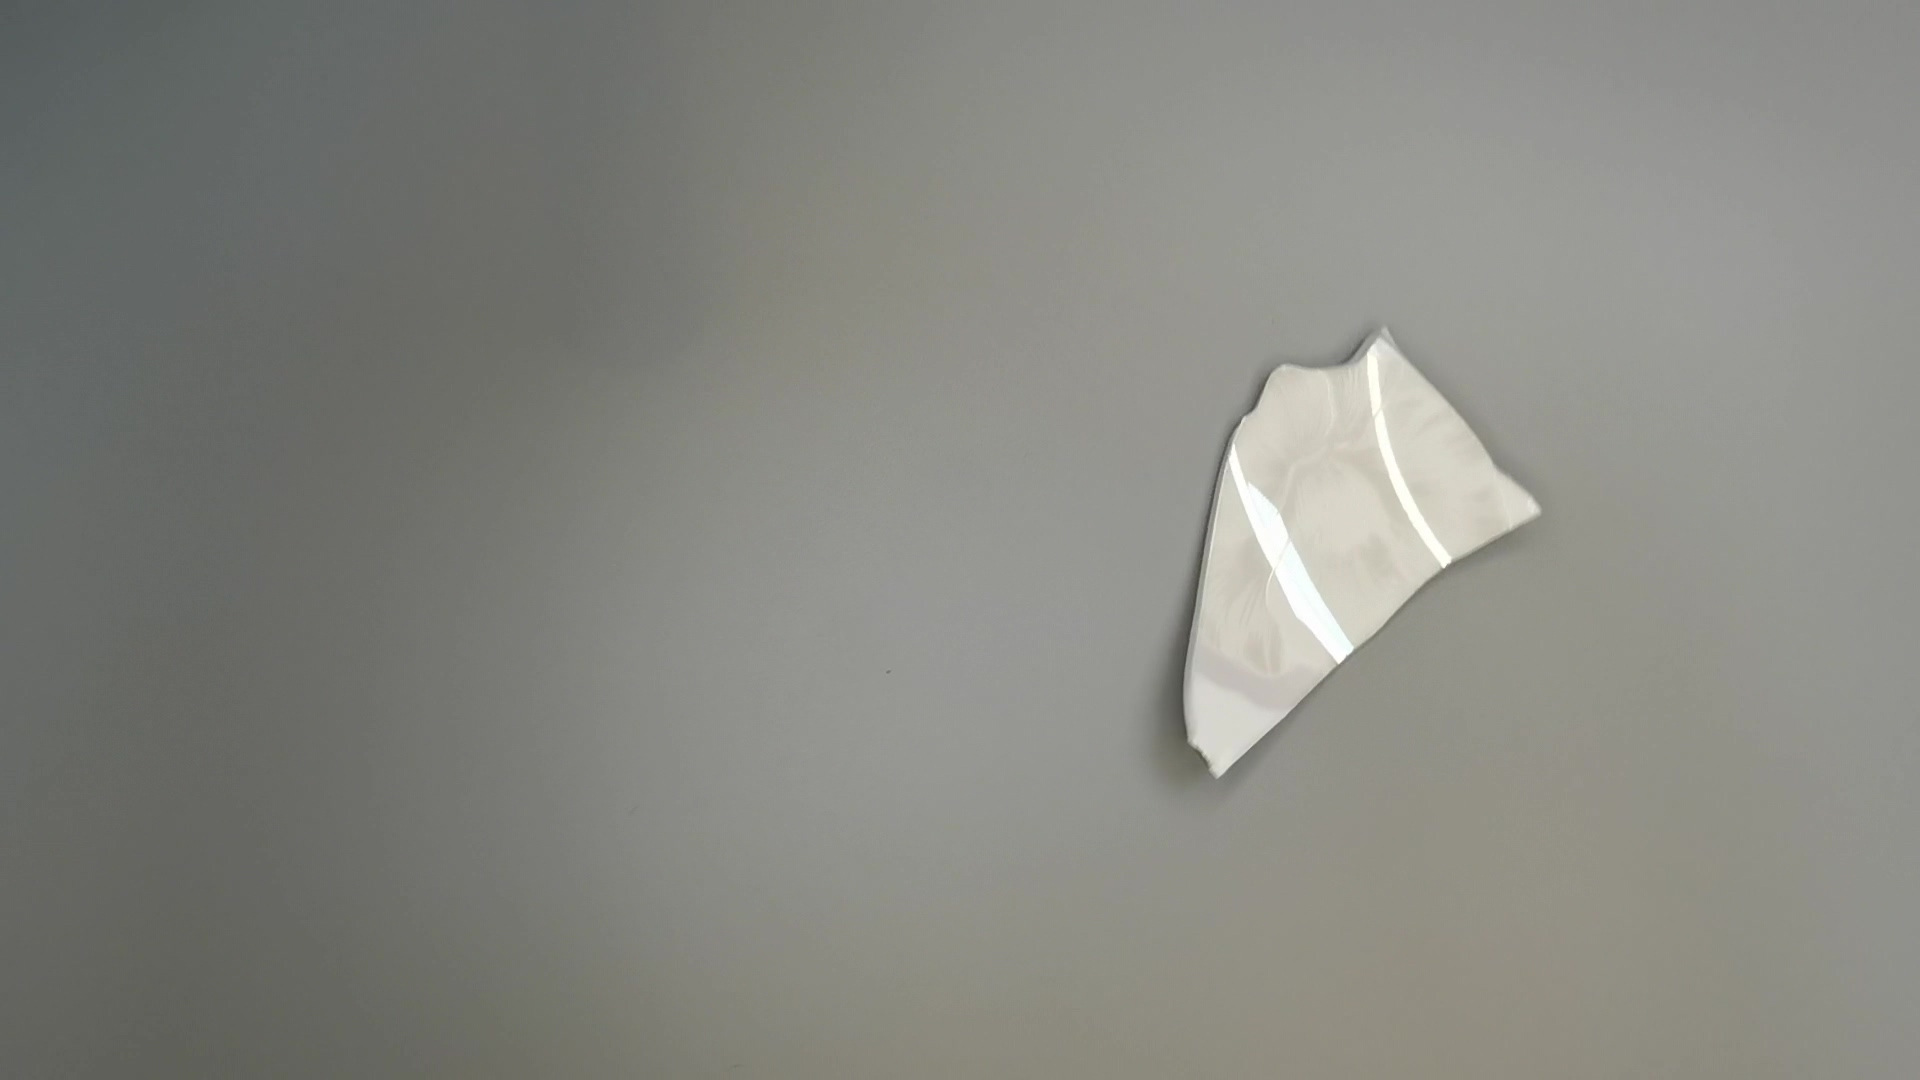ceramic: (1175, 316, 1549, 791)
